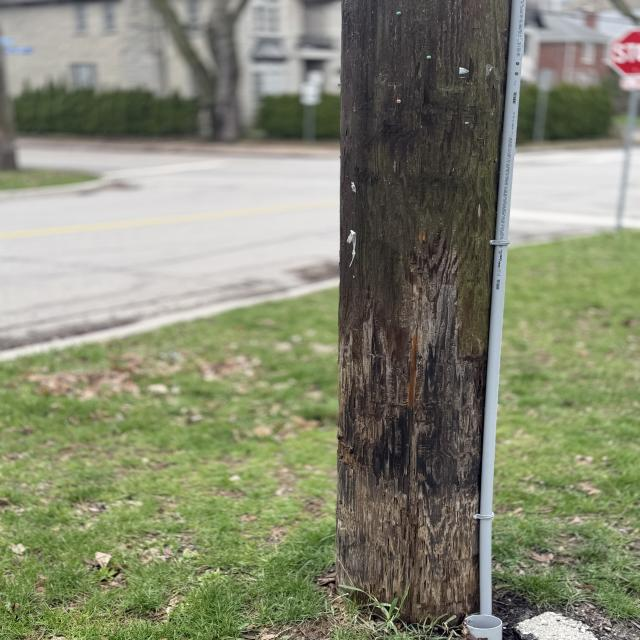Electrical Pole: (330, 0, 534, 638)
